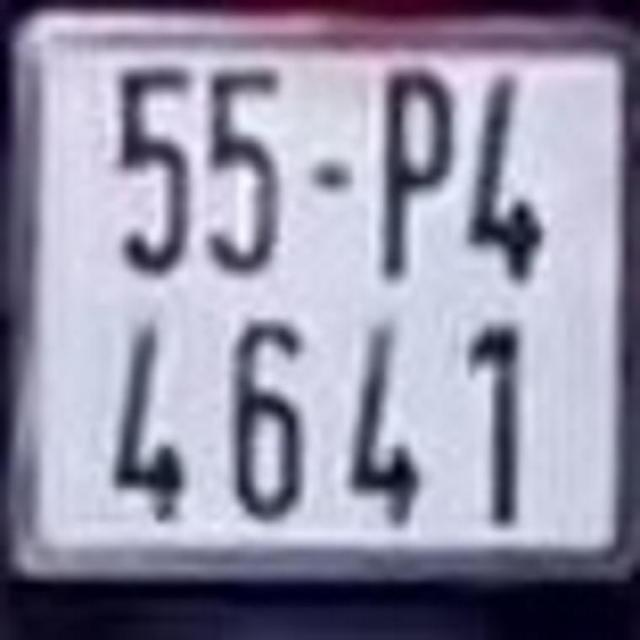1: (458, 314, 537, 529)
4: (345, 309, 423, 538), (467, 61, 544, 290), (111, 308, 188, 532)
5: (200, 48, 290, 275), (117, 54, 197, 276)
6: (225, 302, 306, 528)
P: (374, 61, 456, 276)
